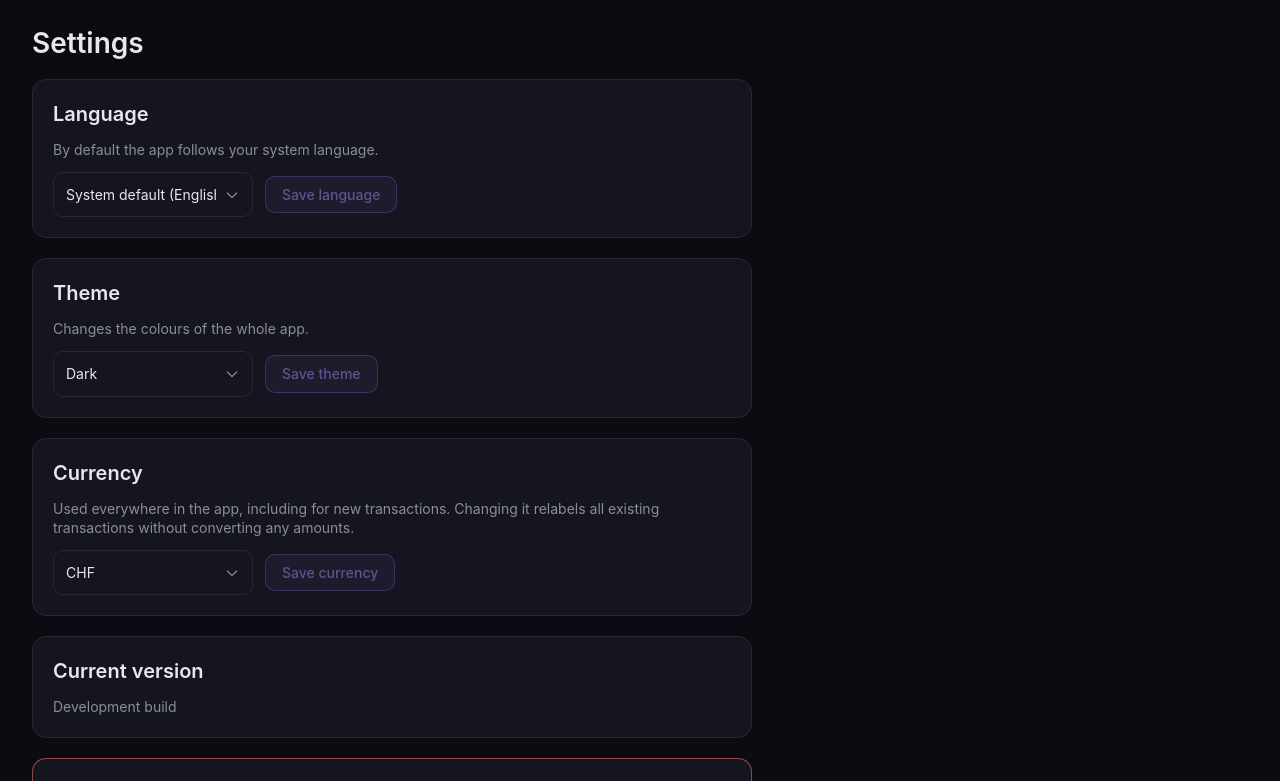
Test: SettingsPage currency › a failed currency change keeps the dialog open with an error
This screenshot has width=1280, height=781.
Click the button "CHF".
click(153, 573)  # box left=53, top=550, right=253, bottom=595
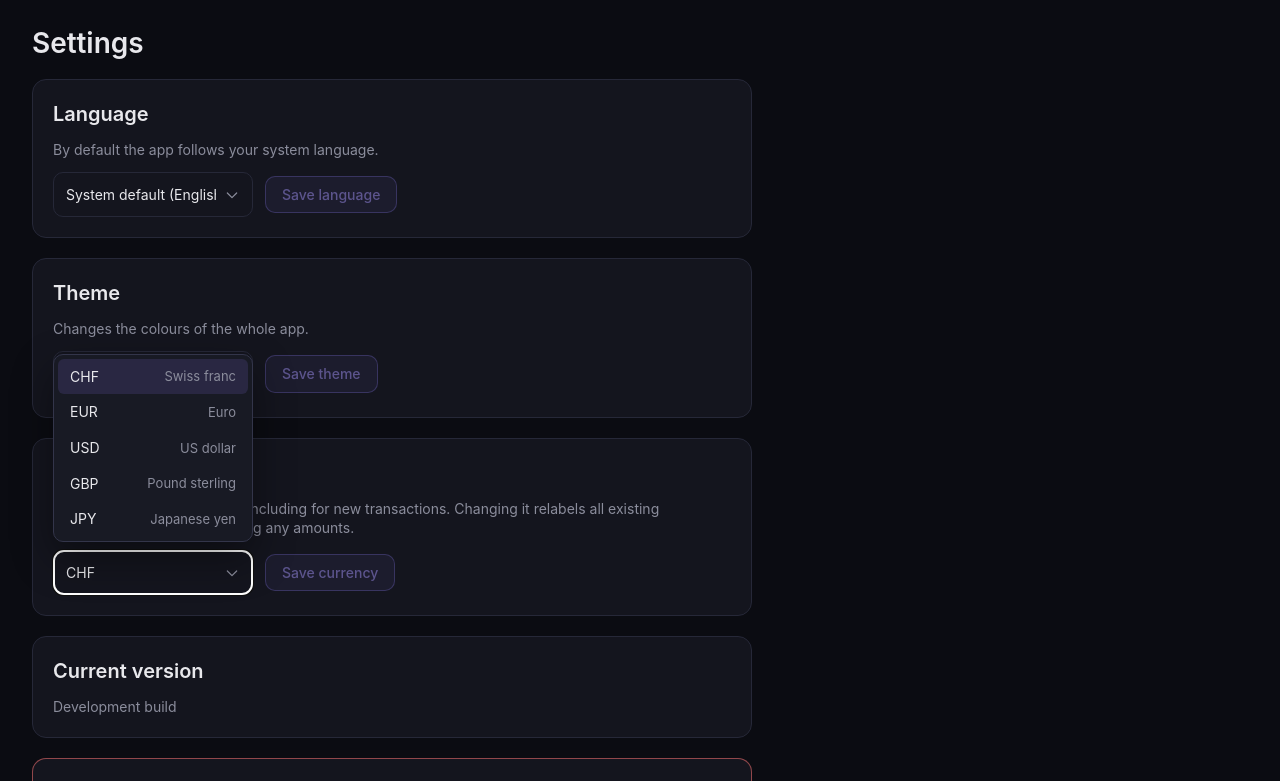
Click the option "EUR Euro".
click(153, 412)  # box left=58, top=394, right=248, bottom=430
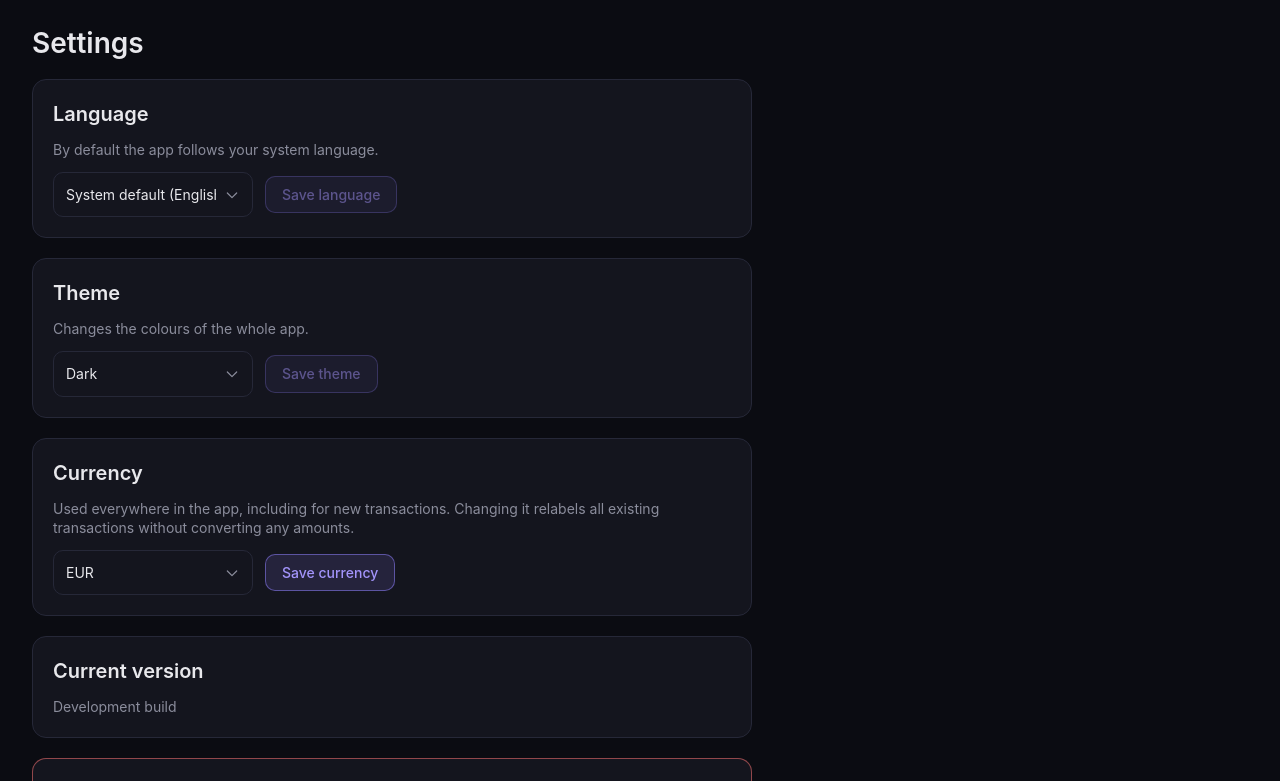
Click the button "Save currency".
click(330, 573)  # box left=265, top=554, right=395, bottom=591
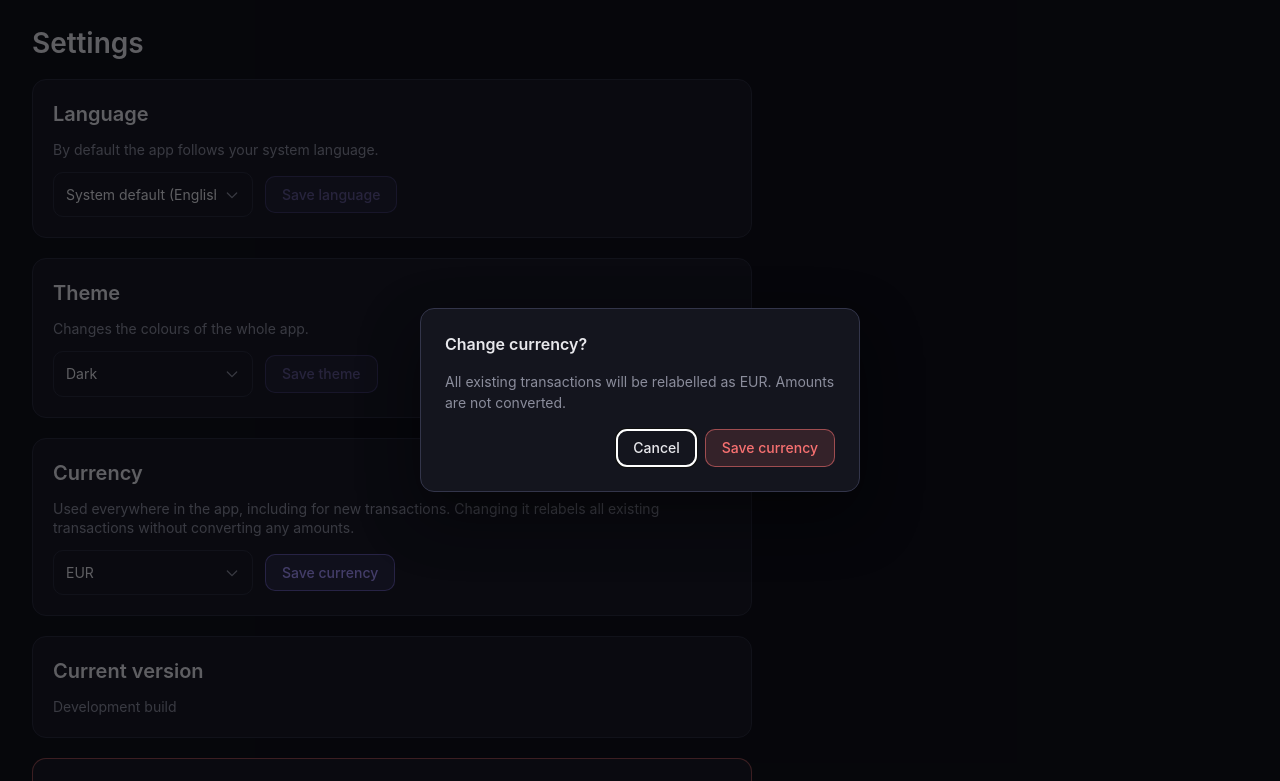
Click the button "Save currency".
click(770, 448)  # box left=705, top=429, right=835, bottom=467
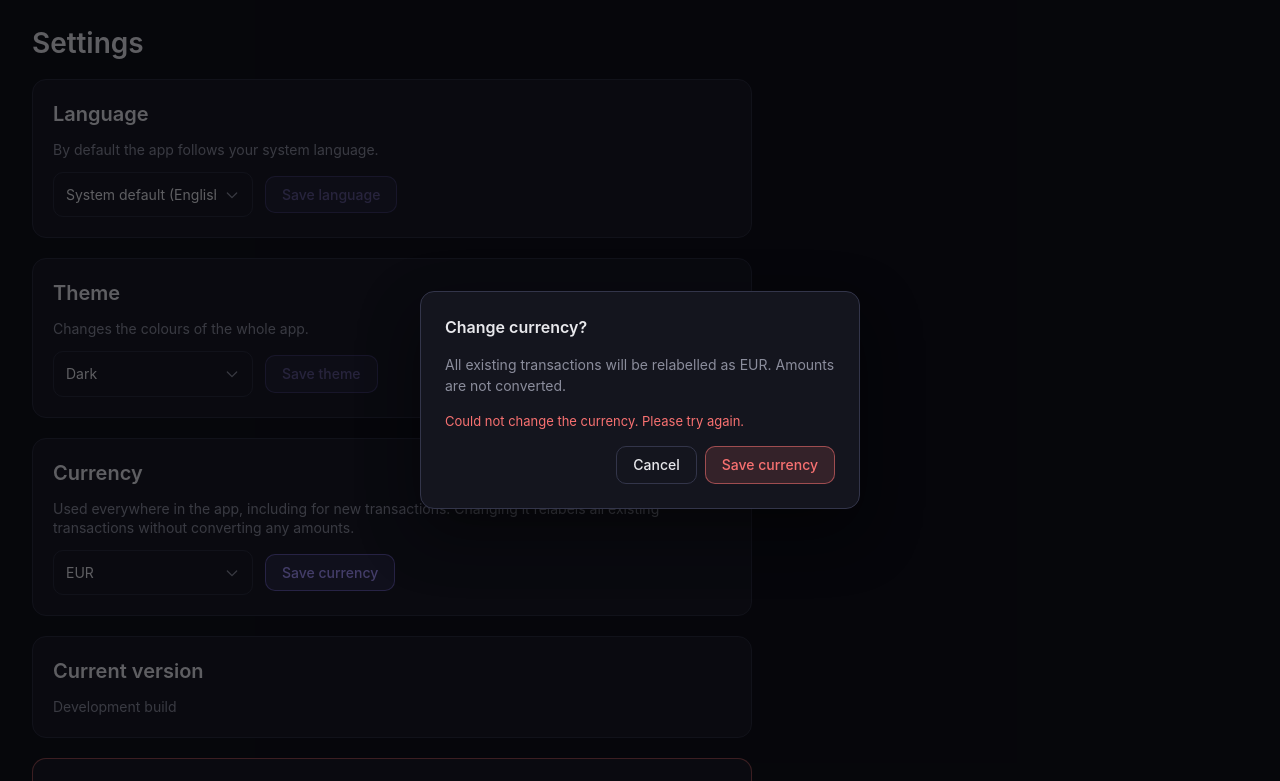
Now the dialog is shown, box left=420, top=291, right=860, bottom=509
Now the text "Could not change the currency. Please try again." is shown, box left=445, top=413, right=744, bottom=429
